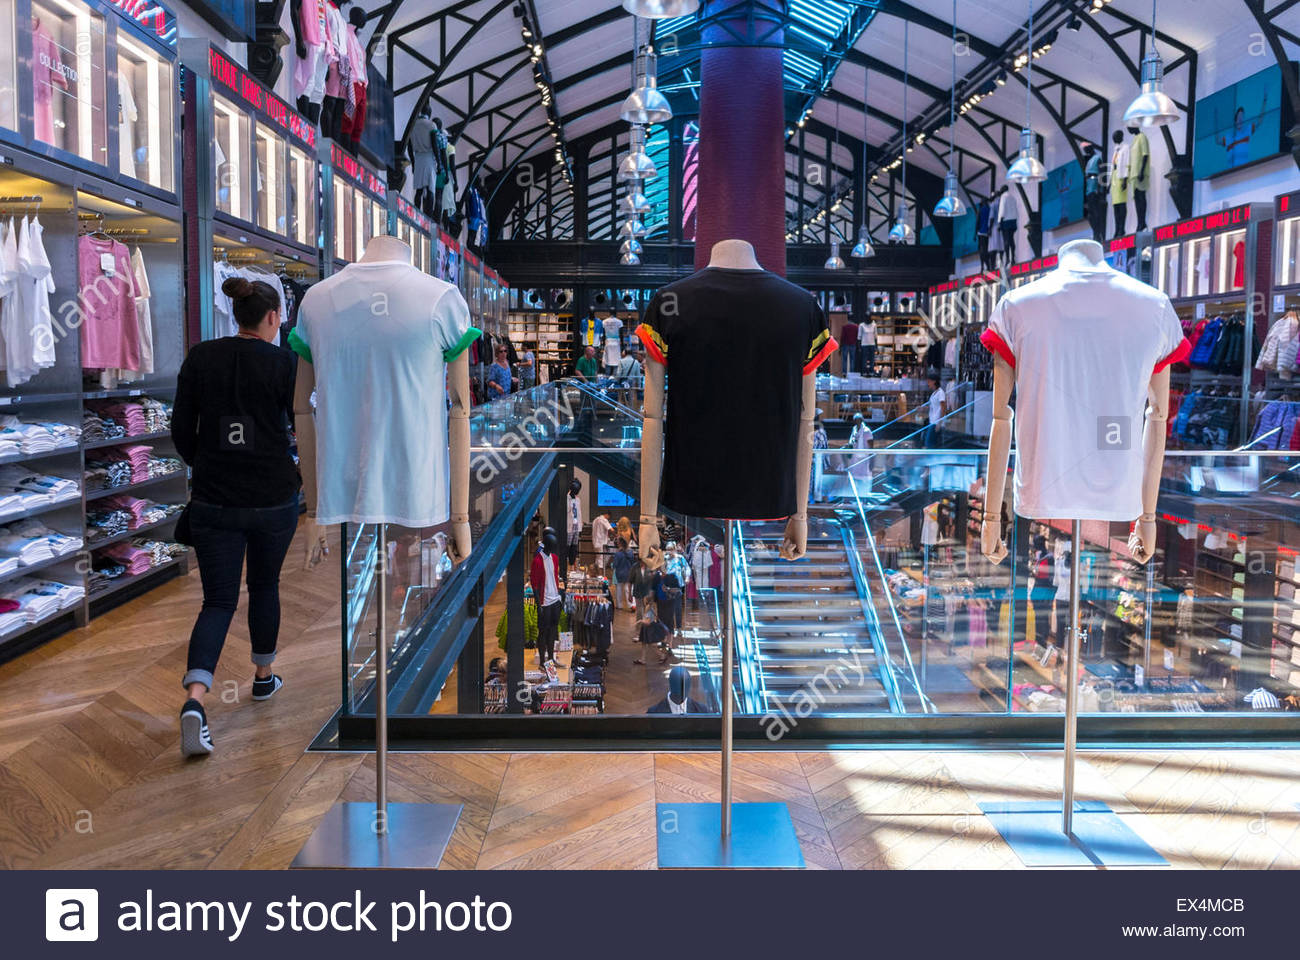Age_20_30: (225, 276, 290, 351)
E_White: (225, 276, 290, 351)
Emotion_Neutral: (225, 276, 290, 351)
G_ Female: (225, 276, 290, 351)
